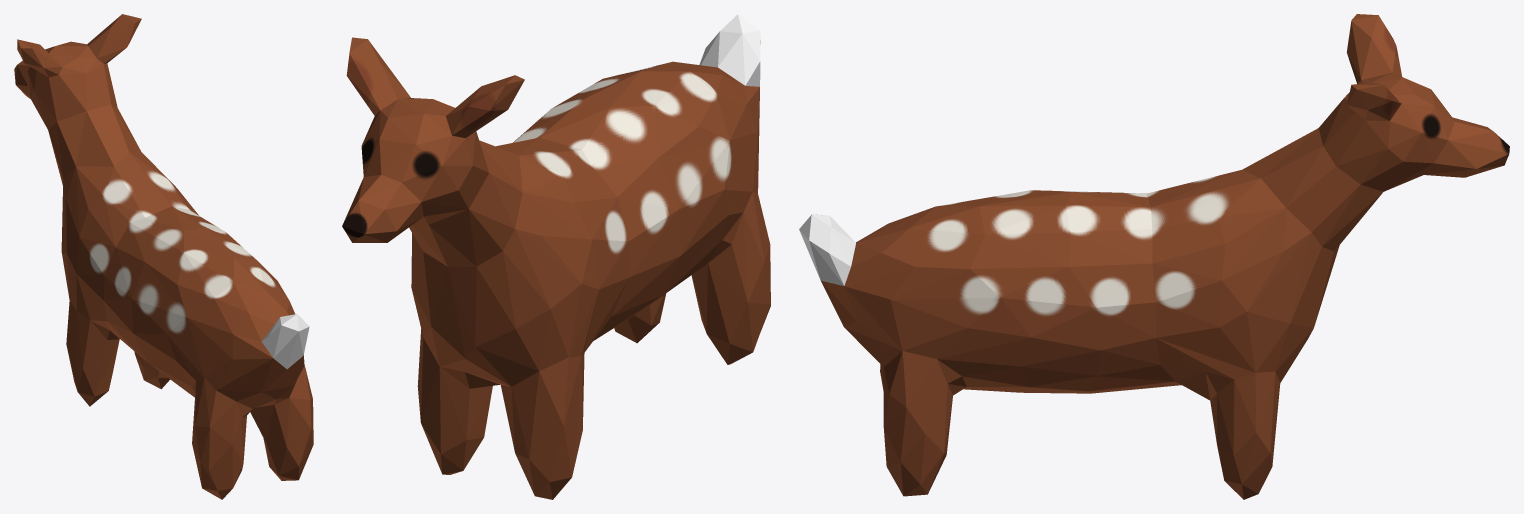
Rendered from animal_deer_fawn_blob.obj.
The picture shows the model from 3 angles, left to right: view 1: azimuth 30°, elevation 25°; view 2: azimuth 150°, elevation 25°; view 3: azimuth 270°, elevation 25°; orthographic projection. The views are drawn at different scales.
Parts seen in each view (by area): view 1: animal_deer_fawn_blob; view 2: animal_deer_fawn_blob; view 3: animal_deer_fawn_blob.
Part boxes in pixels (x1,y1,x2,y2): animal_deer_fawn_blob: [14, 14, 313, 499]; animal_deer_fawn_blob: [342, 14, 770, 499]; animal_deer_fawn_blob: [799, 14, 1509, 499].
Bounding box in the file's own units: 0.3308 × 0.8724 × 1.31.
